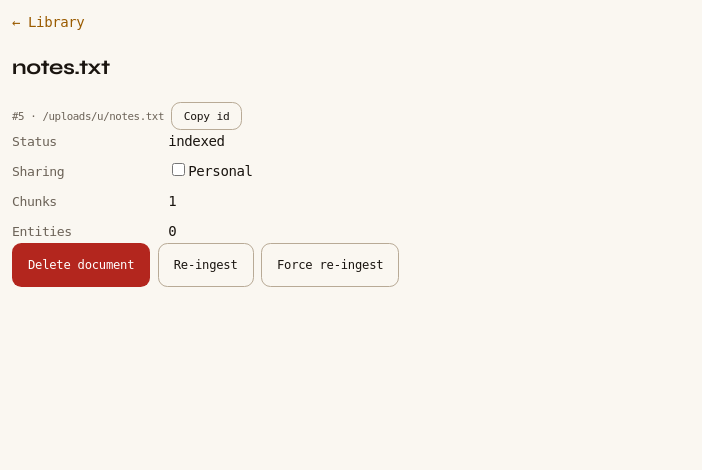
Test case: DocumentDetailView › shows qdrant-specific error message on qdrant arm failure
The width and height of the screenshot is (702, 470).
Click the button "Delete document": (81, 265) [12,243,150,287]
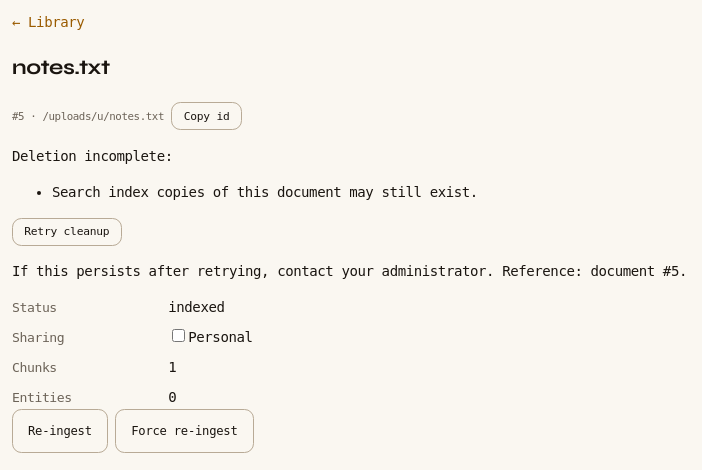
Expected: the list item "Search index copies of this document may still exist." is shown, [52,184,478,200]
